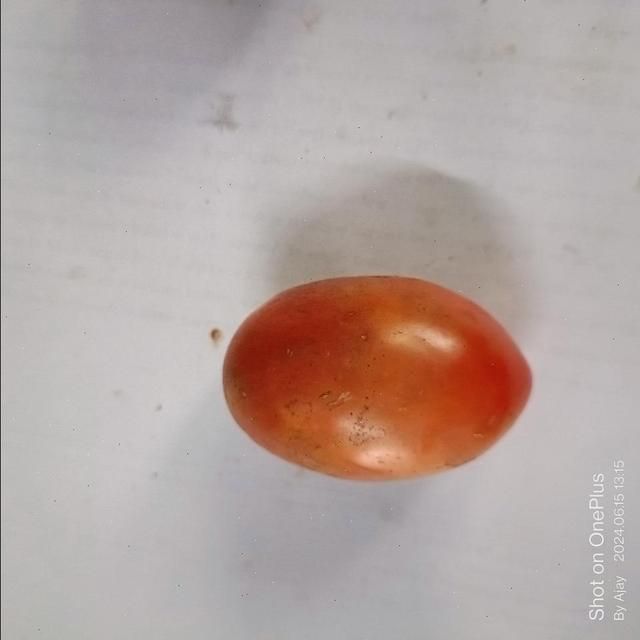Bacterial Spot Fruit: (238, 220, 246, 229)
